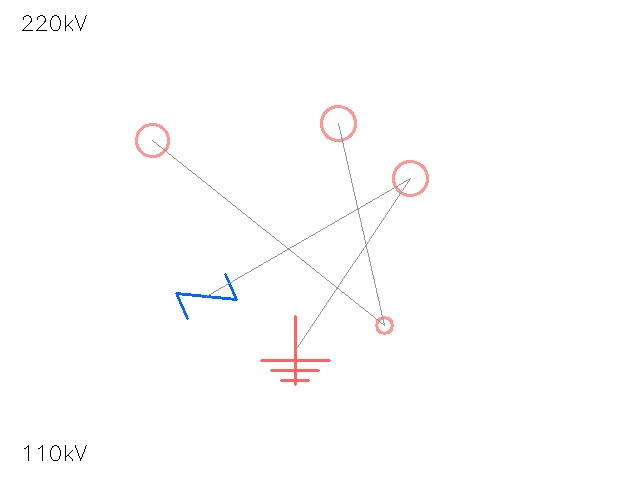circuit_breaker: (177, 267, 235, 325)
current_transformer: (376, 144, 444, 212)
feeder_terminal: (304, 89, 372, 157)
ground: (261, 316, 329, 384)
load_break_switch: (120, 108, 184, 172)
voltage_transformer: (367, 308, 401, 342)
